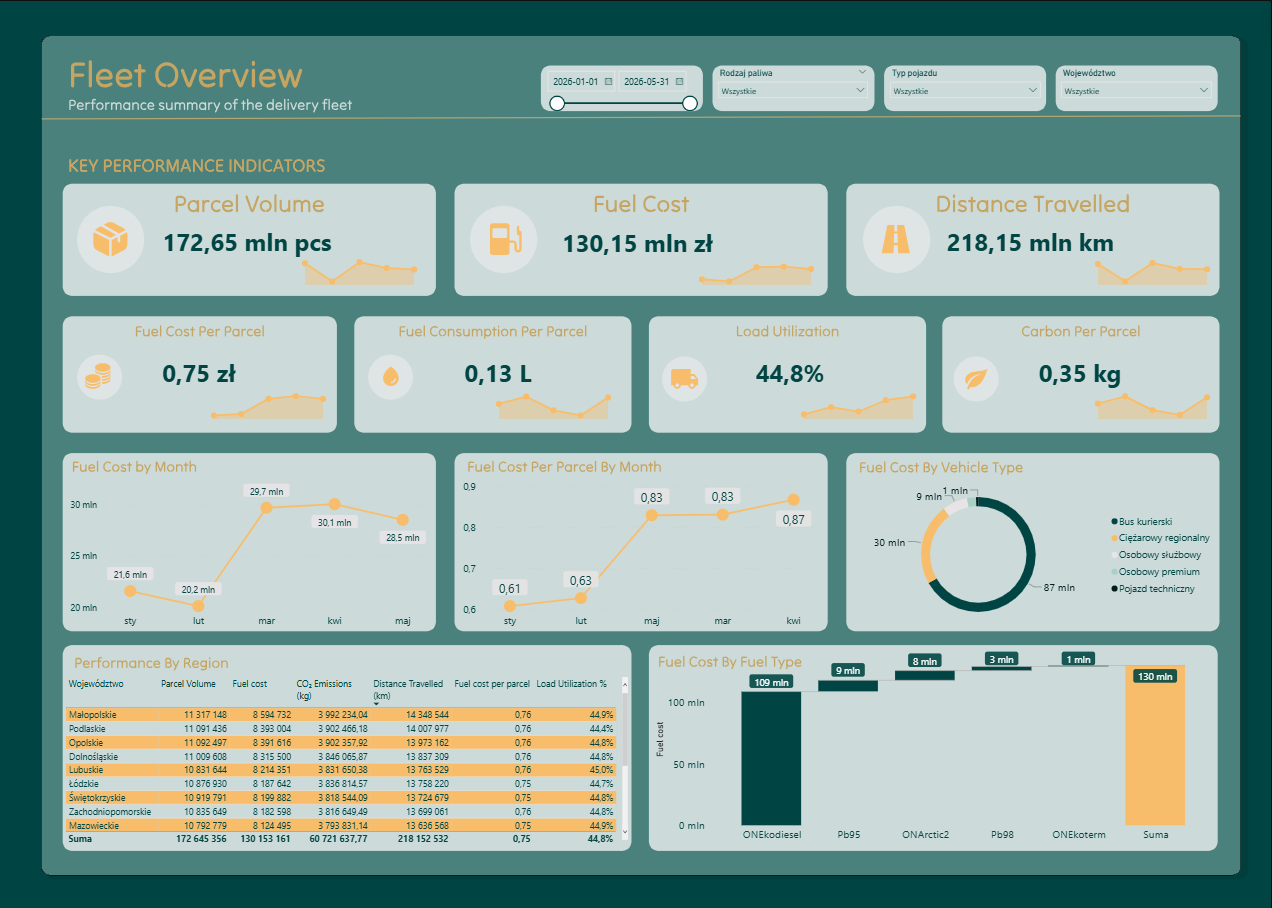

The page's visual inventory and layout, read from the dashboard file:
{"tool":"powerbi","page":{"name":"Fleet Cost & Sustainability Overview","canvas":[2125,1520],"ordinal":0},"visuals":[{"type":"card","fields":{"Values":["Miary.Fuel Cost Display"]},"box":[753.3,308.3,625,190],"z":0},{"type":"card","fields":{"Values":["Miary.Load Utilization %"]},"box":[1090,525,460,192.5],"z":1000},{"type":"card","fields":{"Values":["Miary.Parcel Volume Display"]},"box":[105,308.3,620,186.7],"z":2000},{"type":"card","fields":{"Values":["Miary.Fuel consumption per parcel l"]},"box":[602.5,525,460,192.5],"z":3000},{"type":"card","fields":{"Values":["Miary.Fuel cost per parcel zl"]},"box":[105,525,460,192.5],"z":4000},{"type":"card","fields":{"Values":["Miary.Distance Travelled Display"]},"box":[1408.3,308.3,625,186.7],"z":5000},{"type":"card","fields":{"Values":["Miary.CO2 per Parcel Display"]},"box":[1572.5,525,460,192.5],"z":6000},{"type":"donutChart","title":"FUEL COST BY VEHICLE TYPE","fields":{"Category":["dim_Typ pojazdu.Typ pojazdu"],"Y":["Miary.Fuel cost"]},"box":[1408.3,793.3,625,261.7],"z":7000},{"type":"slicer","fields":{"Values":["dim_Calendar.Date"]},"box":[904,108,271,78],"z":8000},{"type":"slicer","fields":{"Values":["dim_Rodzaj paliwa.Rodzaj paliwa"]},"box":[1190,108,270,80],"z":9000},{"type":"slicer","fields":{"Values":["dim_Typ pojazdu.Typ pojazdu"]},"box":[1477,108,271,80],"z":10000},{"type":"lineChart","fields":{"Category":["dim_Calendar.Month"],"Y":["Miary.Fuel cost"]},"box":[115,793.3,610,261.7],"z":11000},{"type":"lineChart","fields":{"Category":["dim_Calendar.Month"],"Y":["Miary.Fuel cost per parcel"]},"box":[770,793.3,608.3,261.7],"z":12000},{"type":"tableEx","fields":{"Values":["dim_Województwo.Województwo","Miary.Parcel Volume","Miary.Fuel cost","Miary.CO₂ Emissions (kg)","Miary.Distance Travelled (km)","Miary.Fuel cost per parcel","Miary.Load Utilization %"]},"box":[106.7,1123.3,948.3,290],"z":13000},{"type":"waterfallChart","fields":{"Category":["dim_Rodzaj paliwa.Rodzaj paliwa"],"Y":["Miary.Fuel cost"]},"box":[1090,1075,947.5,337.5],"z":14000},{"type":"slicer","fields":{"Values":["dim_Województwo.Województwo"]},"box":[1762,108,271,79],"z":15000},{"type":"areaChart","fields":{"Category":["dim_Calendar.Month"],"Y":["Miary.Parcel Volume"]},"box":[488.3,418.3,228.3,61.7],"z":16000},{"type":"areaChart","fields":{"Category":["dim_Calendar.Month"],"Y":["Miary.Fuel cost"]},"box":[1150,418.3,228.3,61.7],"z":17000},{"type":"areaChart","fields":{"Category":["dim_Calendar.Month"],"Y":["Miary.Distance Travelled (km)"]},"box":[1810,418.3,228.3,61.7],"z":18000},{"type":"areaChart","fields":{"Category":["dim_Calendar.Month"],"Y":["Miary.Fuel cost per parcel"]},"box":[336.7,641.7,228.3,61.7],"z":19000},{"type":"areaChart","fields":{"Category":["dim_Calendar.Month"],"Y":["Miary.Fuel consumption per parcel"]},"box":[811.7,641.7,228.3,61.7],"z":20000},{"type":"areaChart","fields":{"Category":["dim_Calendar.Month"],"Y":["Miary.Load Utilization %"]},"box":[1320,641.7,228.3,61.7],"z":21000},{"type":"areaChart","fields":{"Category":["dim_Calendar.Month"],"Y":["Miary.CO2 per Parcel"]},"box":[1810,641.7,228.3,61.7],"z":22000}]}

Visuals, with their boxes in screenshot pixels (x1, y1, x2, y2), scaled from the page's 2125x1520 canvas onto the 1272x908 screenshot:
card - Miary.Fuel Cost Display: crop(451, 184, 825, 298)
card - Miary.Load Utilization %: crop(652, 314, 928, 429)
card - Miary.Parcel Volume Display: crop(63, 184, 434, 296)
card - Miary.Fuel consumption per parcel l: crop(361, 314, 636, 429)
card - Miary.Fuel cost per parcel zl: crop(63, 314, 338, 429)
card - Miary.Distance Travelled Display: crop(843, 184, 1217, 296)
card - Miary.CO2 per Parcel Display: crop(941, 314, 1217, 429)
"FUEL COST BY VEHICLE TYPE" donutChart: crop(843, 474, 1217, 630)
slicer - dim_Calendar.Date: crop(541, 65, 703, 111)
slicer - dim_Rodzaj paliwa.Rodzaj paliwa: crop(712, 65, 874, 112)
slicer - dim_Typ pojazdu.Typ pojazdu: crop(884, 65, 1046, 112)
lineChart - dim_Calendar.Month x Miary.Fuel cost: crop(69, 474, 434, 630)
lineChart - dim_Calendar.Month x Miary.Fuel cost per parcel: crop(461, 474, 825, 630)
tableEx - dim_Województwo.Województwo x Miary.Parcel Volume: crop(64, 671, 632, 844)
waterfallChart - dim_Rodzaj paliwa.Rodzaj paliwa x Miary.Fuel cost: crop(652, 642, 1220, 844)
slicer - dim_Województwo.Województwo: crop(1055, 65, 1217, 112)
areaChart - dim_Calendar.Month x Miary.Parcel Volume: crop(292, 250, 429, 287)
areaChart - dim_Calendar.Month x Miary.Fuel cost: crop(688, 250, 825, 287)
areaChart - dim_Calendar.Month x Miary.Distance Travelled (km): crop(1083, 250, 1220, 287)
areaChart - dim_Calendar.Month x Miary.Fuel cost per parcel: crop(202, 383, 338, 420)
areaChart - dim_Calendar.Month x Miary.Fuel consumption per parcel: crop(486, 383, 623, 420)
areaChart - dim_Calendar.Month x Miary.Load Utilization %: crop(790, 383, 927, 420)
areaChart - dim_Calendar.Month x Miary.CO2 per Parcel: crop(1083, 383, 1220, 420)
